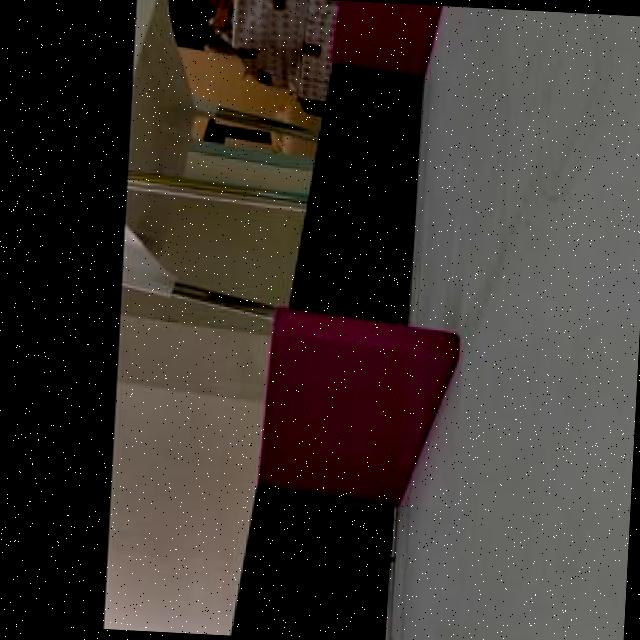xparking: (262, 320, 443, 498), (336, 0, 428, 70)
